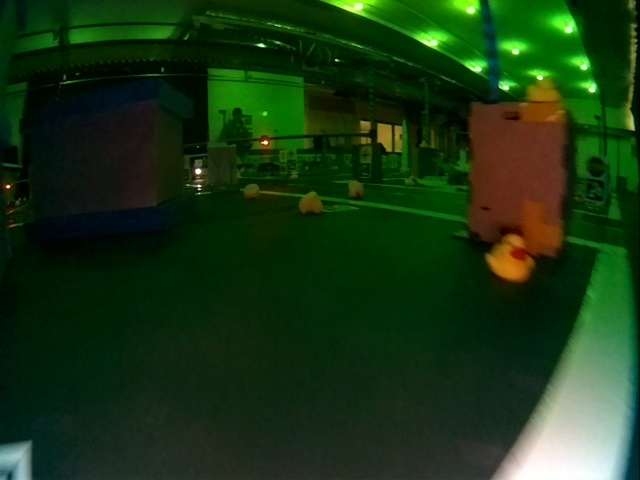Duckie: (486, 234, 534, 281), (528, 78, 559, 101), (299, 191, 323, 214), (348, 181, 364, 197), (243, 184, 260, 196)
